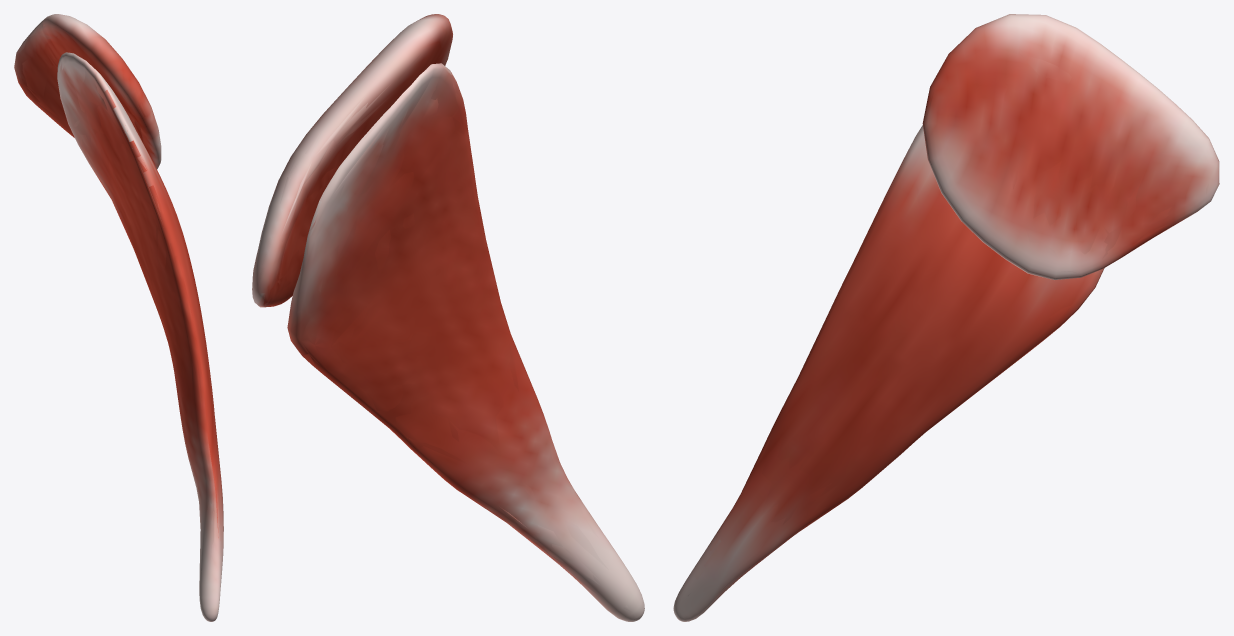
Rendered from L Subscapularis.fbx.
3 renders of one model, left to right at view 1: azimuth 30°, elevation 25°; view 2: azimuth 150°, elevation 25°; view 3: azimuth 270°, elevation 25°, orthographic. The views are drawn at different scales.
Visible parts, largest first — view 1: L Subscapularis, L Subscapularis low; view 2: L Subscapularis, L Subscapularis low; view 3: L Subscapularis, L Subscapularis low.
Part boxes in pixels (<box>): L Subscapularis: <box>14,14,223,621</box>; L Subscapularis low: <box>16,15,221,598</box>; L Subscapularis: <box>252,14,644,621</box>; L Subscapularis low: <box>252,17,632,612</box>; L Subscapularis: <box>673,14,1219,621</box>; L Subscapularis low: <box>678,28,1209,603</box>.
Size of the model in its own units: 6.57 by 36.37 by 29.66.
